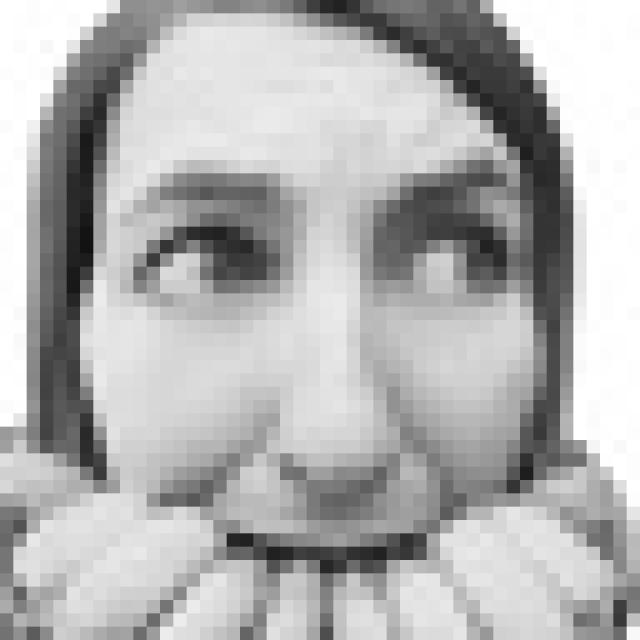fear: (109, 158, 523, 623)
